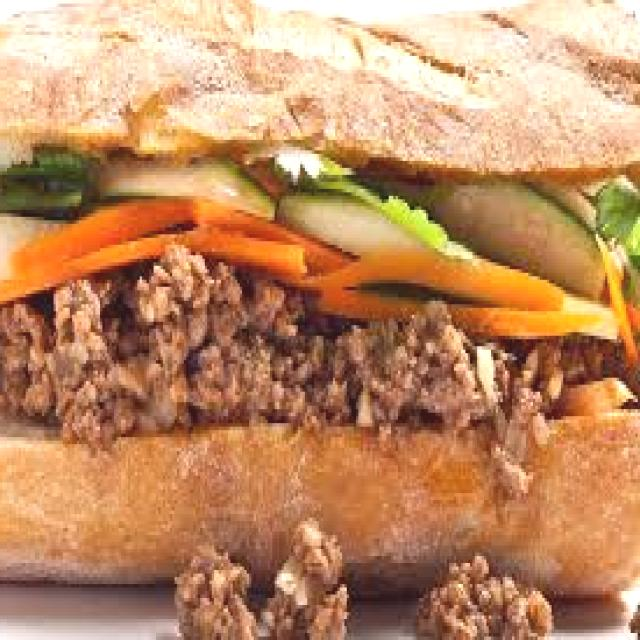organic: (27, 22, 628, 612)
